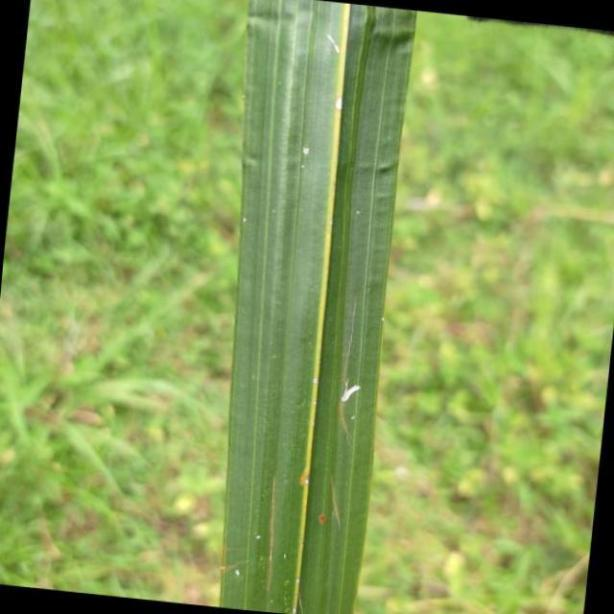Boron: (221, 0, 416, 614)
